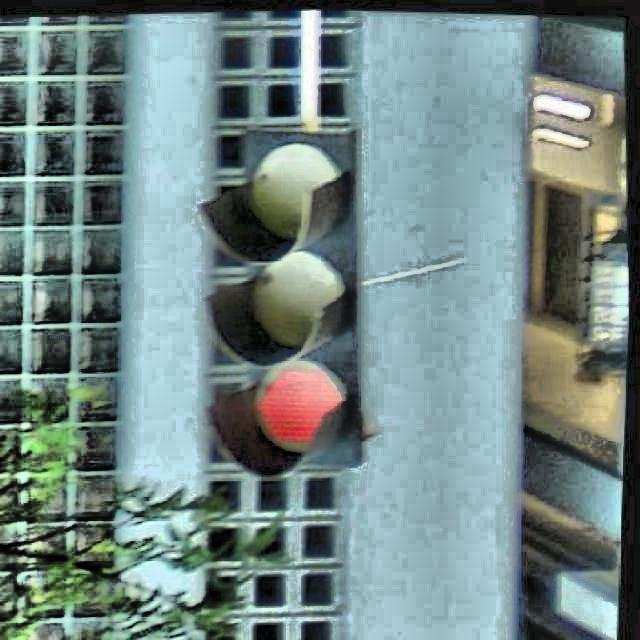red: (215, 121, 364, 466)
